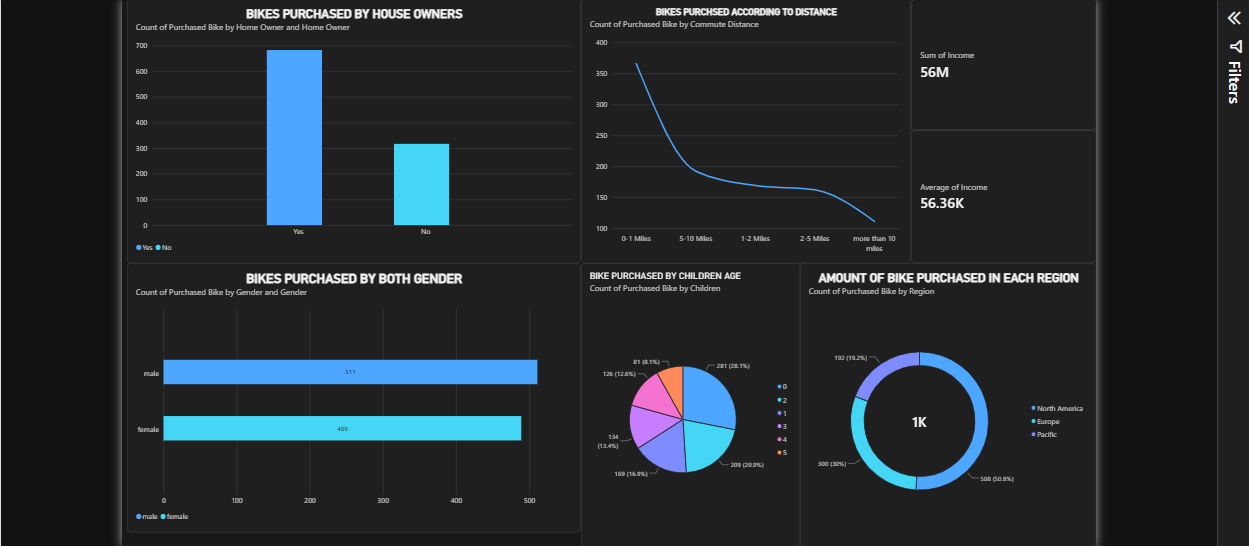

The page's visual inventory and layout, read from the dashboard file:
{"tool":"powerbi","page":{"name":"Page 1","canvas":[1920,1080],"ordinal":0},"visuals":[{"type":"columnChart","title":"BIKES PURCHASED BY HOUSE OWNERS","fields":{"Category":["RAW DATA.Home Owner"],"Series":["RAW DATA.Home Owner"],"Y":["CountNonNull(RAW DATA.Purchased Bike)"]},"box":[10.2,0,894,520.6],"z":0},{"type":"barChart","title":"BIKES PURCHASED BY BOTH GENDER ","fields":{"Category":["RAW DATA.Gender"],"Series":["RAW DATA.Gender"],"Y":["CountNonNull(RAW DATA.Purchased Bike)"]},"box":[10.2,520.6,894,530.8],"z":1},{"type":"pieChart","title":"BIKE PURCHASED BY CHILDREN AGE","fields":{"Category":["RAW DATA.Children"],"Y":["CountNonNull(RAW DATA.Purchased Bike)"]},"box":[904.1,520.6,431.7,558.7],"z":2},{"type":"lineChart","title":"BIKES PURCHSED ACCORDING TO DISTANCE","fields":{"Category":["RAW DATA.Commute Distance"],"Y":["CountNonNull(RAW DATA.Purchased Bike)"]},"box":[904.1,0,650.2,520.6],"z":3},{"type":"donutChart","title":"AMOUNT OF BIKE PURCHASED IN EACH REGION","fields":{"Category":["RAW DATA.Region"],"Y":["CountNonNull(RAW DATA.Purchased Bike)"]},"box":[1335.9,520.6,584.1,558.7],"z":4},{"type":"cardVisual","fields":{"Data":["Sum(RAW DATA.Income)"]},"box":[1554.3,0,365.7,259],"z":6},{"type":"cardVisual","fields":{"Data":["Avg(RAW DATA.Income)"]},"box":[1554,259,366,262],"z":7}]}

Visuals, with their boxes on the page's 1920x1080 design canvas (x1, y1, x2, y2). These are canvas units, not pixel positions in the 1249x546 screenshot, which may show the page scaled, cropped or inside an application window:
"BIKES PURCHASED BY HOUSE OWNERS" columnChart: 10:0:904:521
"BIKES PURCHASED BY BOTH GENDER " barChart: 10:521:904:1051
"BIKE PURCHASED BY CHILDREN AGE" pieChart: 904:521:1336:1079
"BIKES PURCHSED ACCORDING TO DISTANCE" lineChart: 904:0:1554:521
"AMOUNT OF BIKE PURCHASED IN EACH REGION" donutChart: 1336:521:1920:1079
cardVisual - Sum(RAW DATA.Income): 1554:0:1920:259
cardVisual - Avg(RAW DATA.Income): 1554:259:1920:521
